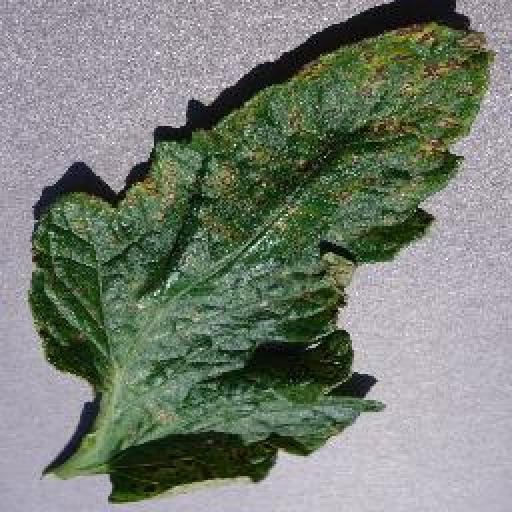Septoria: (30, 25, 492, 504)
